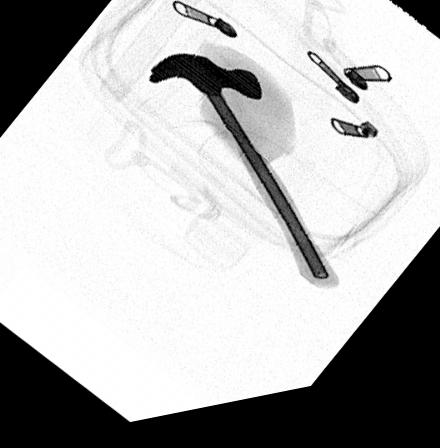Hammer: (149, 57, 340, 302)
